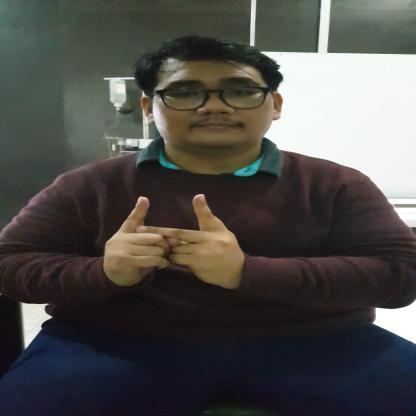H: (95, 193, 243, 289)
